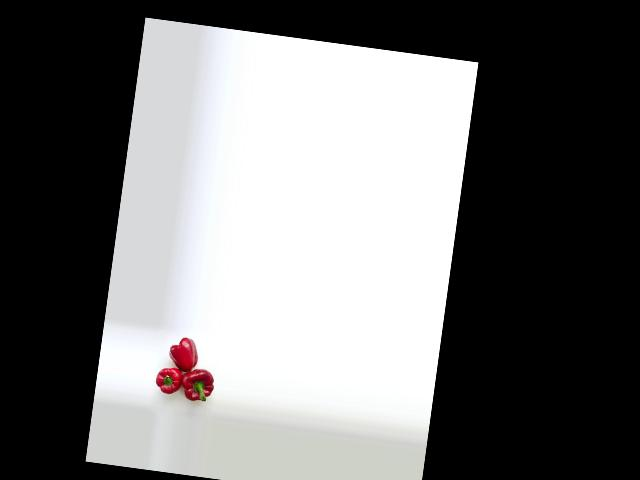bell_pepper: (161, 330, 203, 374)
